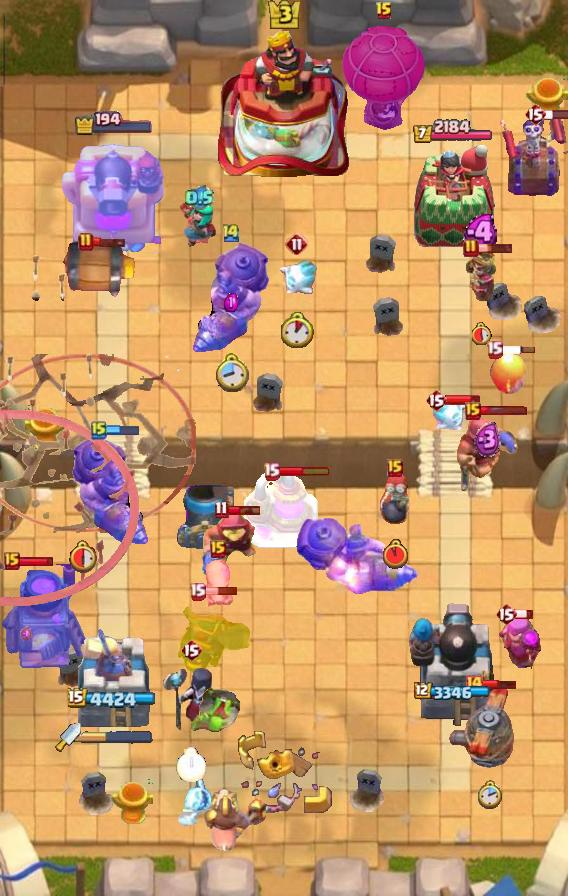archer-evolution: (165, 592, 251, 678)
bar: (75, 623, 153, 731)
bar-level: (187, 687, 241, 735)
bat: (173, 776, 215, 828), (276, 258, 318, 300), (429, 396, 471, 432)
bomber-evolution: (465, 249, 499, 301)
cannon-cart: (339, 21, 429, 131)
dark-prince: (445, 685, 535, 769)
electro-spirit: (463, 214, 502, 251), (475, 422, 501, 458), (186, 185, 215, 211), (224, 293, 238, 312), (20, 626, 33, 642)
elixir: (213, 352, 249, 393), (281, 312, 315, 348), (68, 539, 99, 573), (176, 747, 206, 782), (383, 539, 408, 569), (477, 780, 502, 810), (472, 322, 492, 346)
emote: (277, 465, 330, 477), (478, 404, 528, 415), (105, 424, 140, 437), (477, 242, 514, 254), (91, 236, 127, 248), (445, 394, 481, 406), (226, 504, 262, 516), (17, 556, 54, 567), (482, 679, 518, 690), (500, 345, 536, 355), (202, 586, 238, 596), (544, 108, 568, 120), (514, 608, 534, 620)
fireball: (454, 412, 520, 494), (201, 511, 263, 579)
freeze: (201, 785, 271, 857)
giant: (202, 557, 234, 607)
guard: (0, 355, 196, 534)
hog: (489, 352, 529, 396)
hunter: (0, 564, 90, 672)
ice-golem: (378, 469, 412, 525)
king-tower: (218, 27, 350, 181)
king-tower-bar: (81, 730, 153, 744)
musketeer: (175, 485, 235, 549)
pekka: (241, 468, 319, 550)
queen-tower: (410, 144, 496, 255)
rascal-boy: (162, 663, 220, 733)
rascal-girl: (494, 611, 542, 679)
selected: (68, 688, 160, 712), (412, 119, 494, 145), (74, 112, 154, 137), (414, 682, 492, 702)
skeleton-barrel: (0, 253, 140, 608)
skeleton-king-bar: (500, 112, 568, 198)
text: (285, 232, 309, 256), (524, 102, 546, 126), (425, 388, 447, 412), (495, 602, 517, 626), (180, 638, 202, 662), (221, 222, 241, 243), (464, 674, 484, 694), (375, 1, 393, 21), (263, 463, 280, 482), (190, 582, 207, 601), (78, 232, 94, 252), (463, 238, 479, 258), (91, 420, 107, 440), (485, 341, 502, 359), (465, 402, 481, 420), (387, 459, 403, 477), (210, 540, 226, 558), (4, 552, 20, 570), (215, 500, 229, 519)
the-log: (57, 239, 137, 299)
tower-bar: (60, 138, 168, 256), (408, 599, 498, 731)
witch: (178, 200, 220, 248)
wizard: (295, 517, 419, 595), (190, 241, 272, 355), (69, 433, 151, 547)
